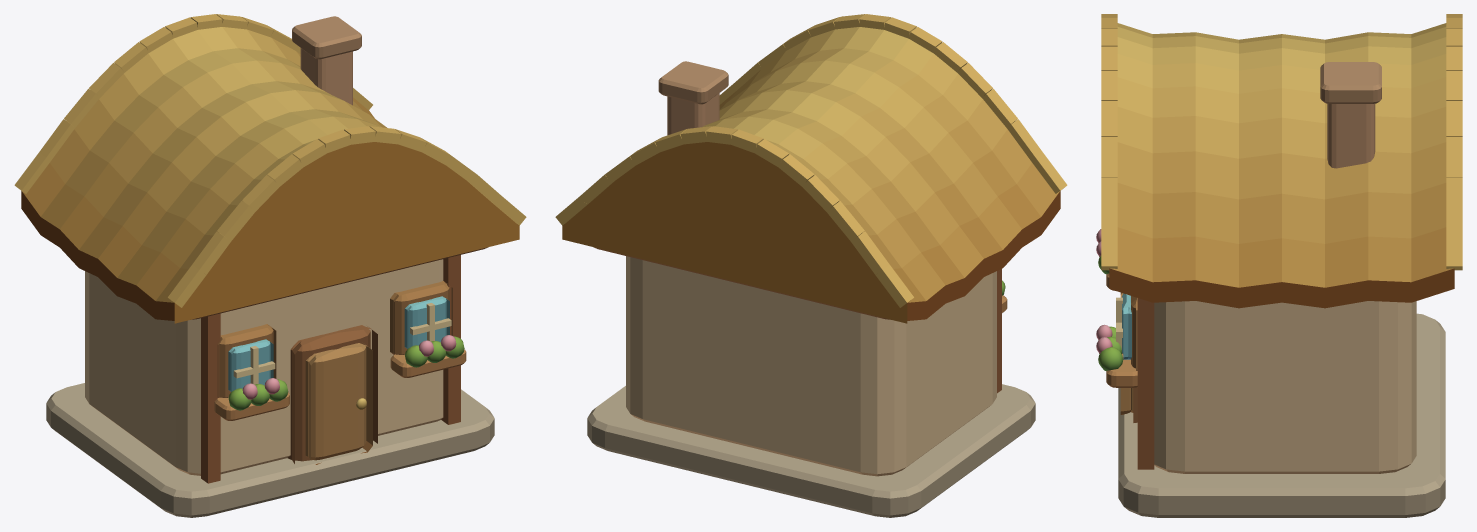
File: Origin_Fairytale_Cottage.glb
3 views of the same model, side by side, from view 1: azimuth 30°, elevation 25°; view 2: azimuth 150°, elevation 25°; view 3: azimuth 270°, elevation 25° (orthographic). The views are drawn at different scales.
Parts seen in each view (by area): view 1: Origin_Fairytale_Cottage; view 2: Origin_Fairytale_Cottage; view 3: Origin_Fairytale_Cottage.
Boxes of the visible parts, x1,y1,x2,y2 form: Origin_Fairytale_Cottage: (14, 14, 526, 517); Origin_Fairytale_Cottage: (555, 14, 1067, 517); Origin_Fairytale_Cottage: (1096, 14, 1462, 517).
Size of the model in its own units: 3.63 by 3.54 by 2.91.
